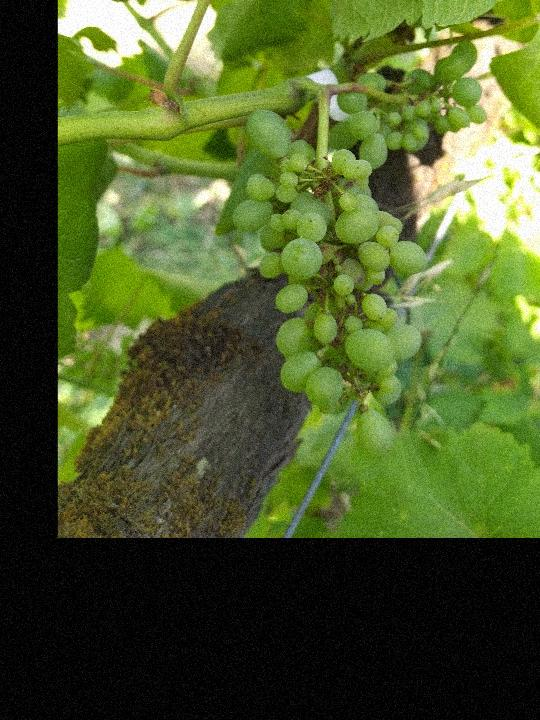grape: (224, 36, 490, 463)
